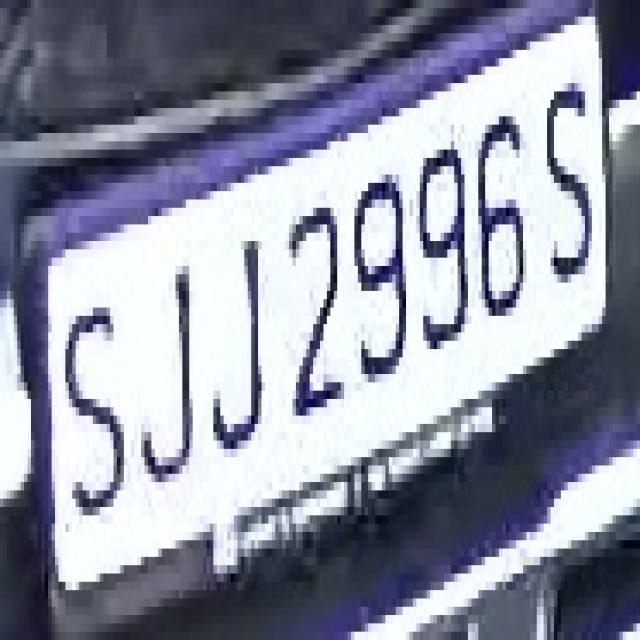2: (275, 175, 348, 432)
6: (471, 75, 537, 324)
9: (344, 150, 410, 390), (413, 116, 478, 358)
J: (131, 250, 206, 516), (203, 199, 272, 474)
S: (48, 291, 127, 540), (533, 50, 606, 316)
